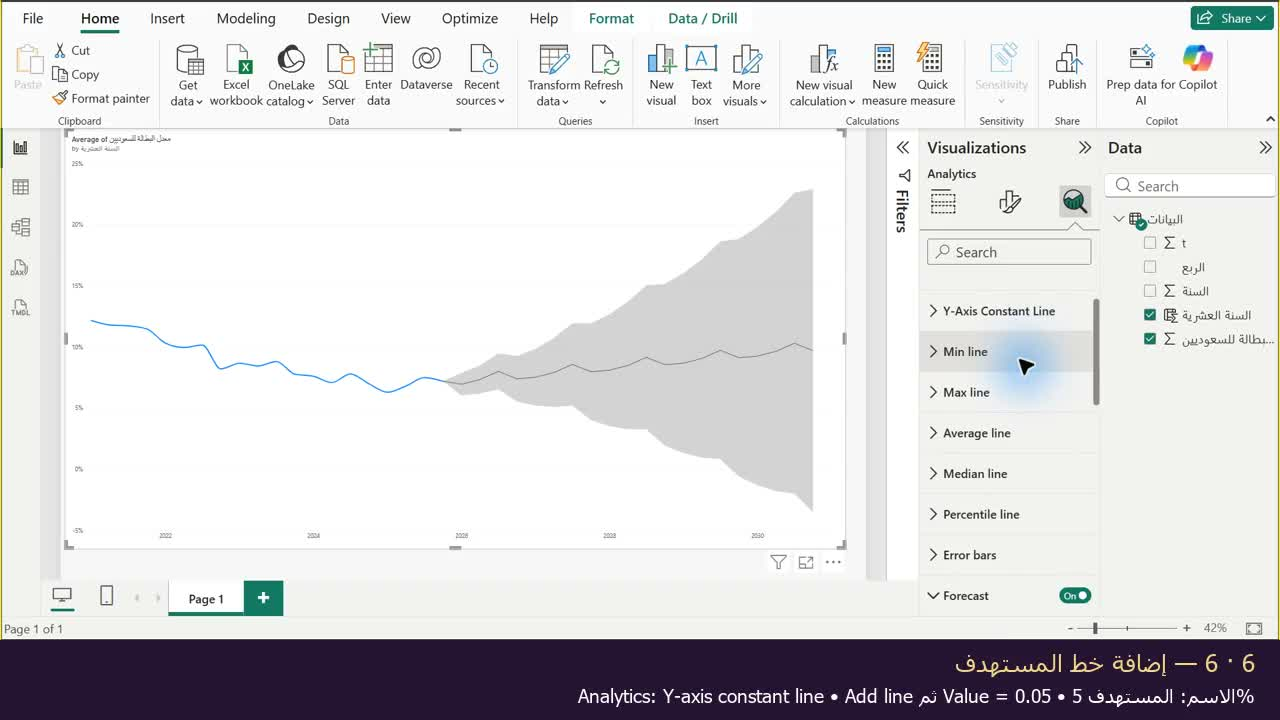

The dashboard page shown, as its layout file describes it:
{"tool":"powerbi","page":{"name":"Page 1","canvas":[1920,1080],"ordinal":0},"visuals":[{"type":"lineChart","fields":{"Category":["البيانات.السنة العشرية"],"Y":["Avg(البيانات.معدل البطالة للسعوديين)"]},"box":[9.5,0,1862.7,1005.4],"z":0}]}

Visuals, with their boxes on the page's 1920x1080 design canvas (x1, y1, x2, y2). These are canvas units, not pixel positions in the 1280x720 screenshot, which may show the page scaled, cropped or inside an application window:
lineChart - البيانات.السنة العشرية x Avg(البيانات.معدل البطالة للسعوديين): box(10, 0, 1872, 1005)
